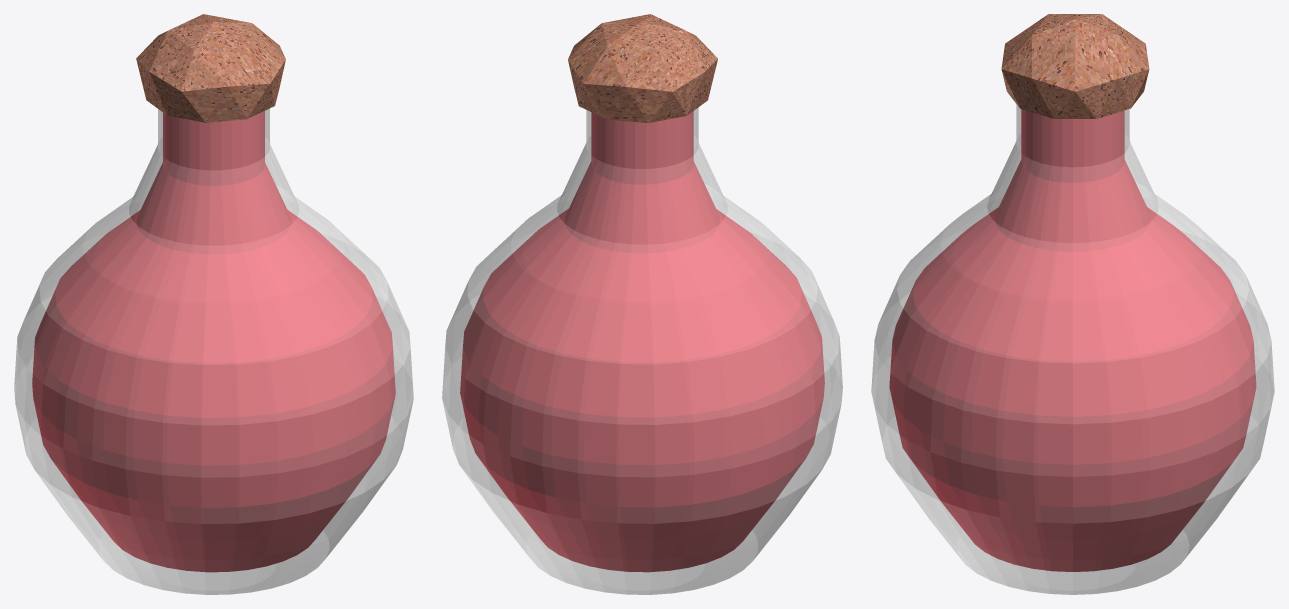
Rendered from flask.glb.
The picture shows the model from 3 angles, left to right: view 1: azimuth 30°, elevation 25°; view 2: azimuth 150°, elevation 25°; view 3: azimuth 270°, elevation 25°; orthographic projection.
Parts seen in each view (by area): view 1: Bottle, Liquid, Cap; view 2: Bottle, Liquid, Cap; view 3: Bottle, Liquid, Cap.
Boxes of the visible parts, x1=… form: Bottle: x1=14, y1=108, x2=413, y2=594; Liquid: x1=32, y1=111, x2=395, y2=572; Cap: x1=136, y1=14, x2=285, y2=122; Bottle: x1=442, y1=107, x2=842, y2=594; Liquid: x1=460, y1=111, x2=824, y2=572; Cap: x1=568, y1=14, x2=717, y2=122; Bottle: x1=871, y1=104, x2=1274, y2=594; Liquid: x1=889, y1=109, x2=1256, y2=571; Cap: x1=1001, y1=14, x2=1149, y2=118.
Size of the model in its own units: 2.06 by 3.07 by 2.06.
Materials: 3 (1 with a texture image).
